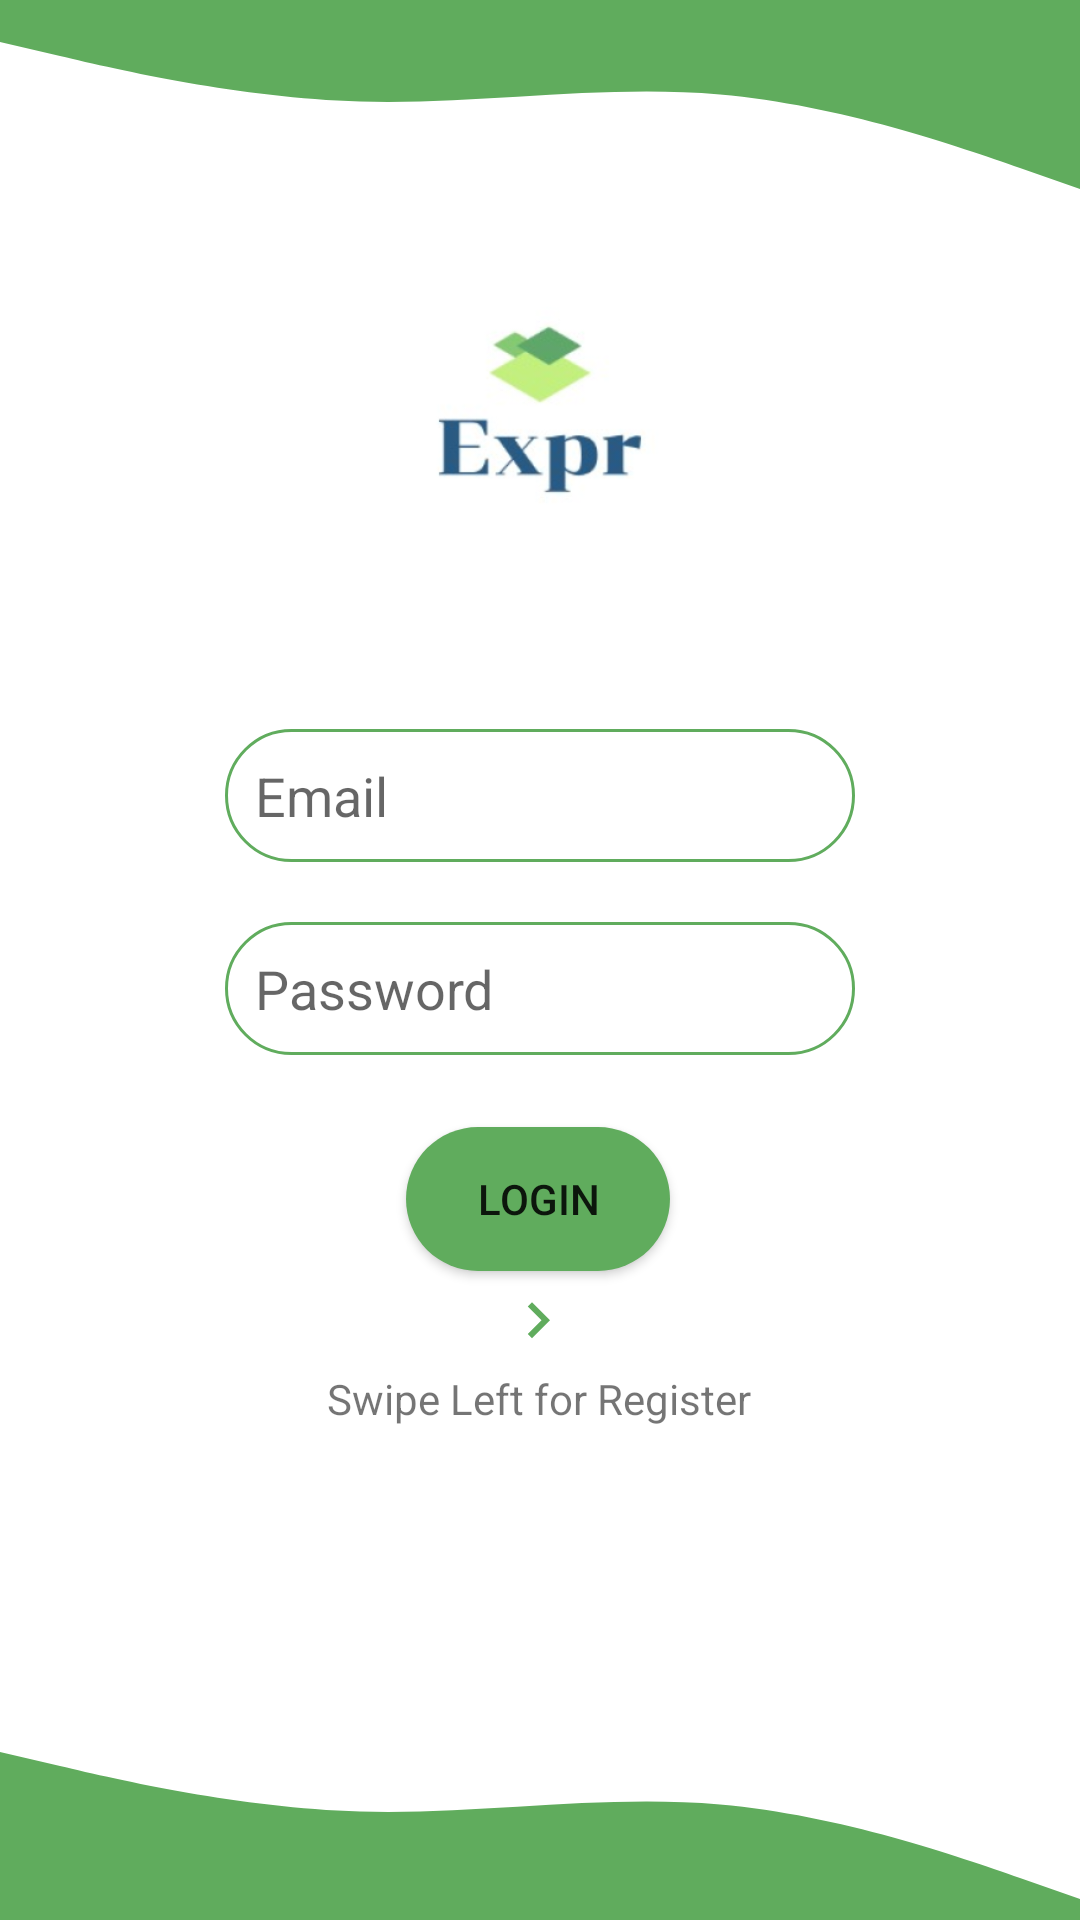

Icon click points for this 1080px×1920px phone screenshot, format (x=x, y=y):
arrow right: (x=539, y=1320)
